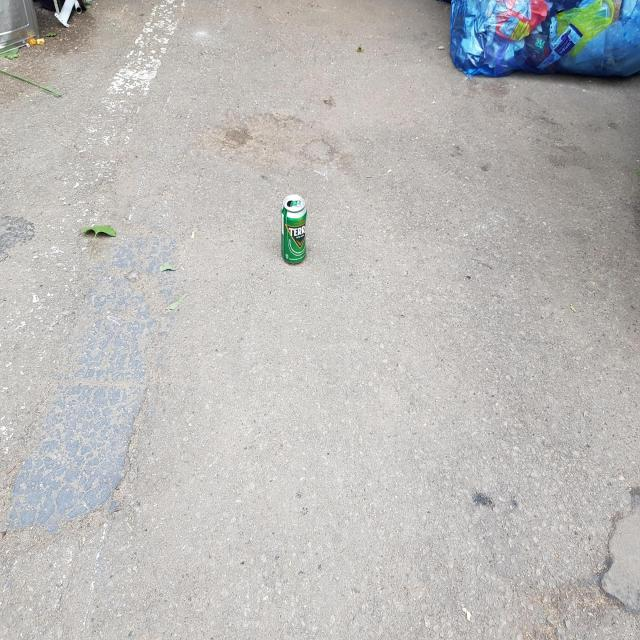can: (281, 193, 307, 263)
